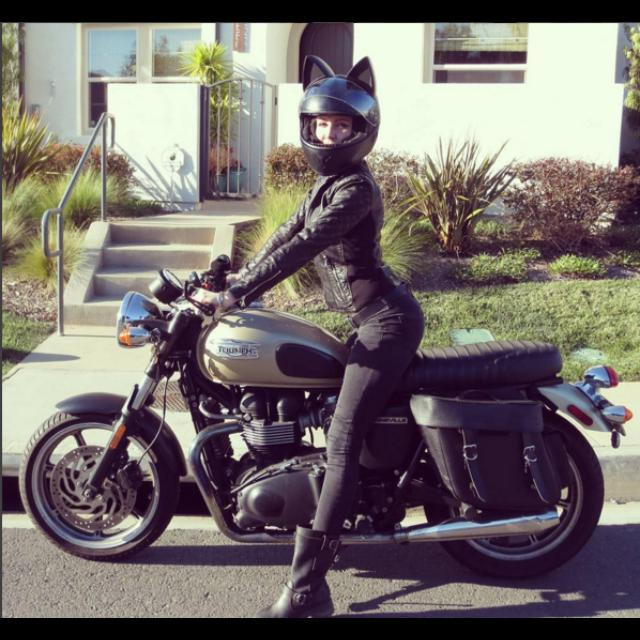With Helmet: (296, 52, 379, 170)
